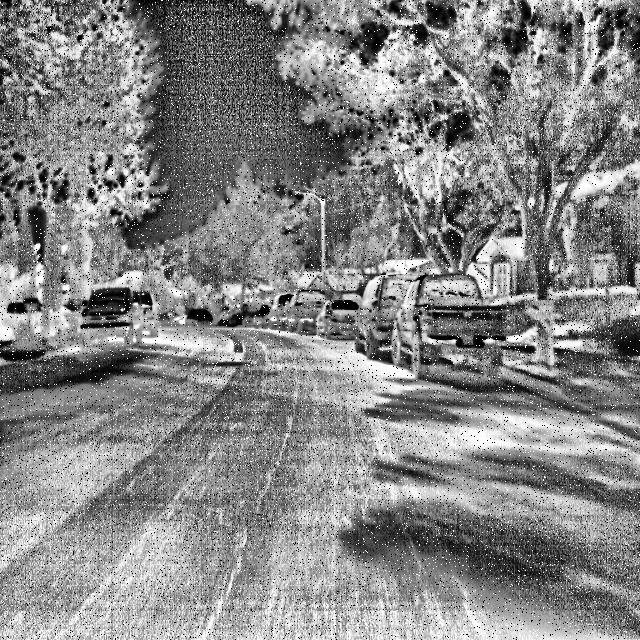car: (390, 270, 485, 376), (354, 262, 442, 372), (82, 282, 165, 363), (287, 288, 365, 347), (324, 287, 387, 357), (118, 288, 167, 352), (265, 294, 313, 332)
light: (287, 175, 344, 236)
